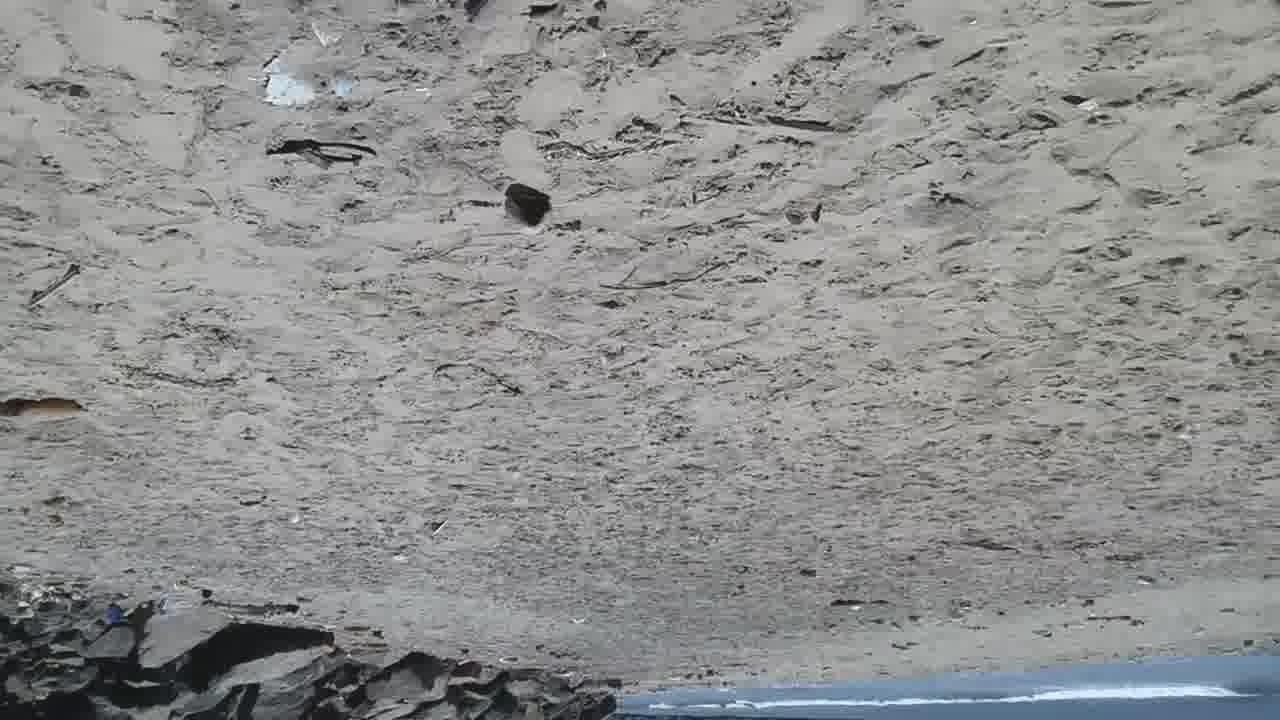obj: (260, 5, 368, 111), (668, 92, 837, 140), (263, 139, 381, 172), (503, 173, 561, 238), (30, 264, 83, 311), (2, 397, 88, 420), (831, 599, 889, 613)
sand/background: (1, 560, 1279, 719)
